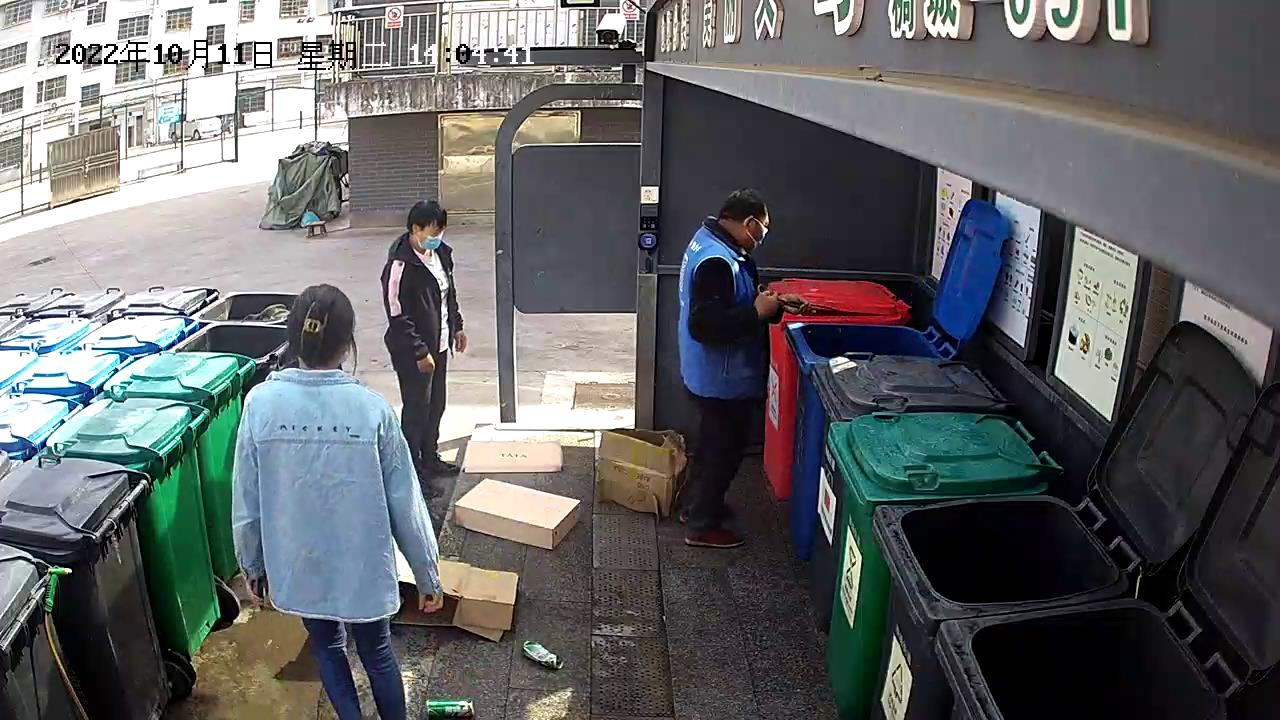lvzhipin: (519, 637, 567, 674), (424, 695, 477, 717)
person: (378, 198, 471, 500)
worker: (229, 281, 443, 720), (672, 184, 810, 552)
zhizhipin: (390, 532, 521, 646), (450, 476, 584, 552), (597, 422, 688, 522), (457, 435, 566, 477)
